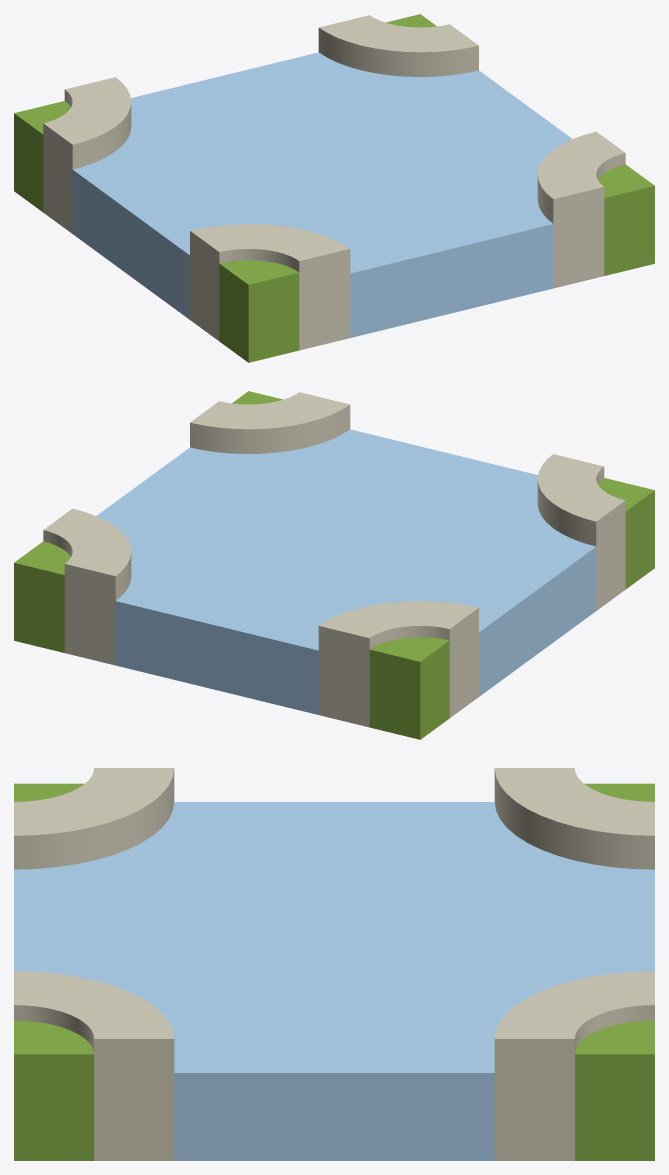
The model's file is roadTile_251.fbx.
3 views of the same model, one above another, from view 1: azimuth 30°, elevation 25°; view 2: azimuth 150°, elevation 25°; view 3: azimuth 270°, elevation 25° (orthographic). The views are drawn at different scales.
Parts seen in each view (by area): view 1: roadTile_251; view 2: roadTile_251; view 3: roadTile_251.
Part boxes in pixels (x1=…): roadTile_251: x1=14, y1=14, x2=654, y2=362; roadTile_251: x1=14, y1=391, x2=654, y2=739; roadTile_251: x1=14, y1=768, x2=654, y2=1160.
Bounding box in the file's own units: 118 × 24.8 × 118.
